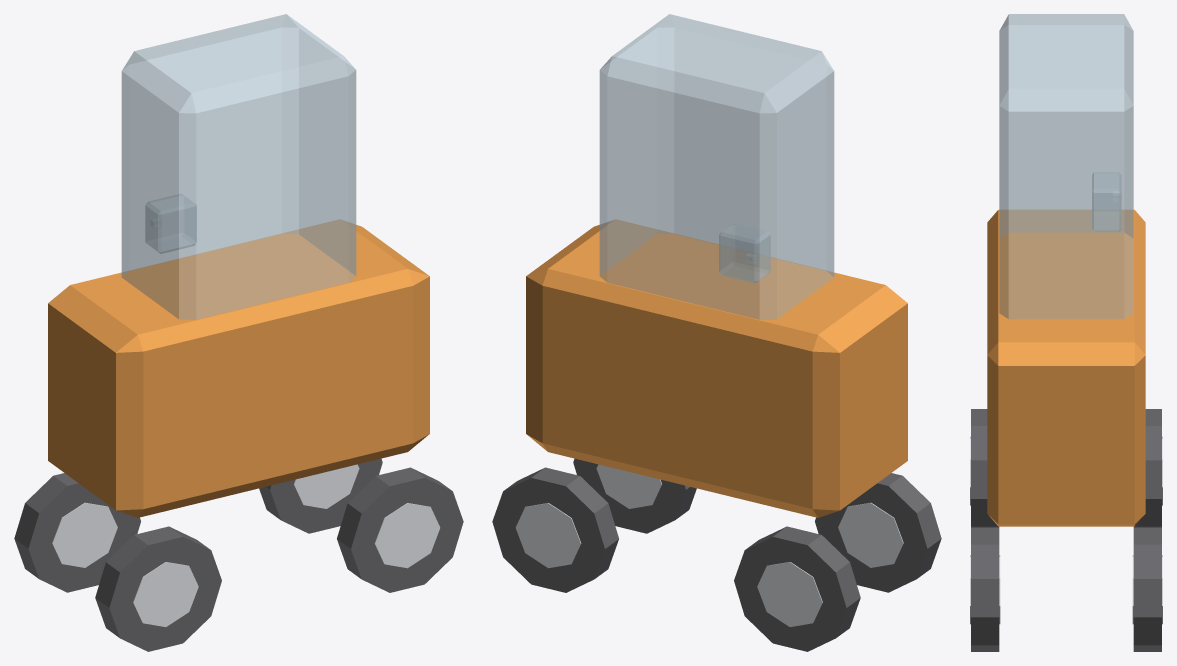
The model's file is b07_electric_scissor_lift_extended.glb.
3 views of the same model, side by side, from view 1: azimuth 30°, elevation 25°; view 2: azimuth 150°, elevation 25°; view 3: azimuth 270°, elevation 25° (orthographic).
Parts seen in each view (by area): view 1: b07_electric_scissor_lift_extended; view 2: b07_electric_scissor_lift_extended; view 3: b07_electric_scissor_lift_extended.
Boxes of the visible parts, bbox=[...] form: b07_electric_scissor_lift_extended: bbox=[14, 14, 463, 651]; b07_electric_scissor_lift_extended: bbox=[492, 14, 941, 651]; b07_electric_scissor_lift_extended: bbox=[970, 14, 1162, 651].
Size of the model in its own units: 2.72 by 3.88 by 1.27.
